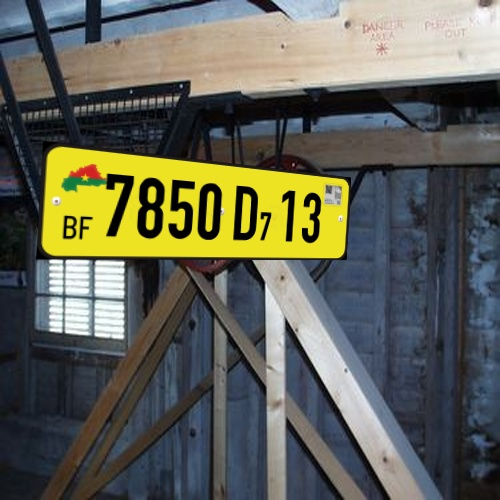plate: (35, 134, 380, 292)
